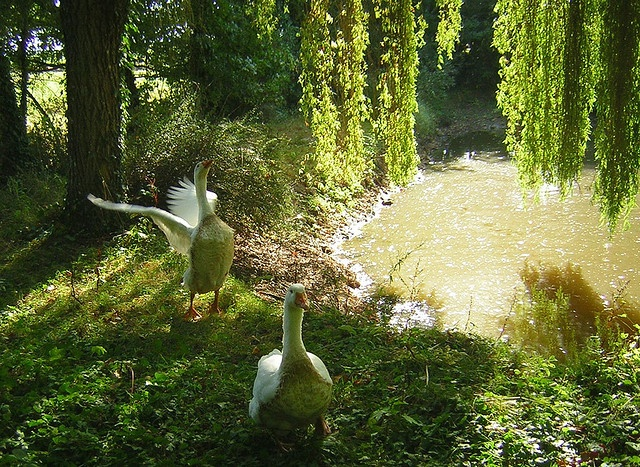bird: (86, 160, 322, 467)
